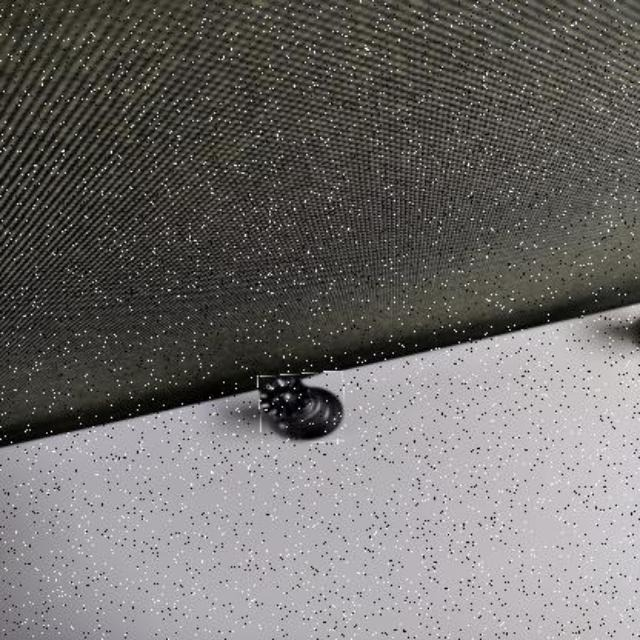black-queen: (259, 372, 345, 444)
